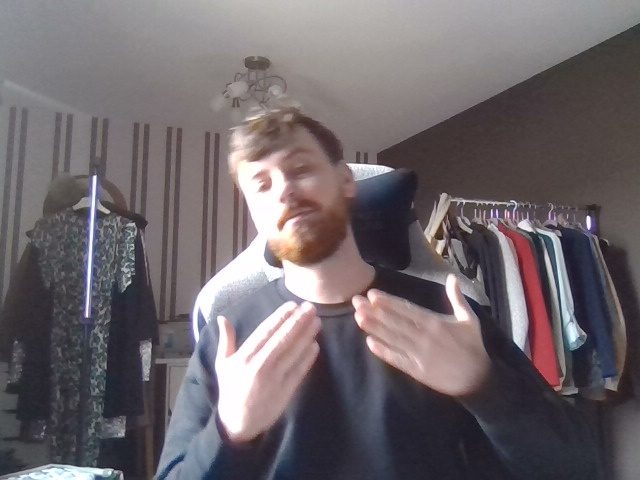Thanks: (199, 268, 500, 440)
